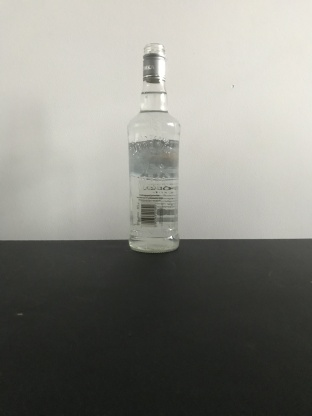nakretka: (141, 41, 167, 83)
